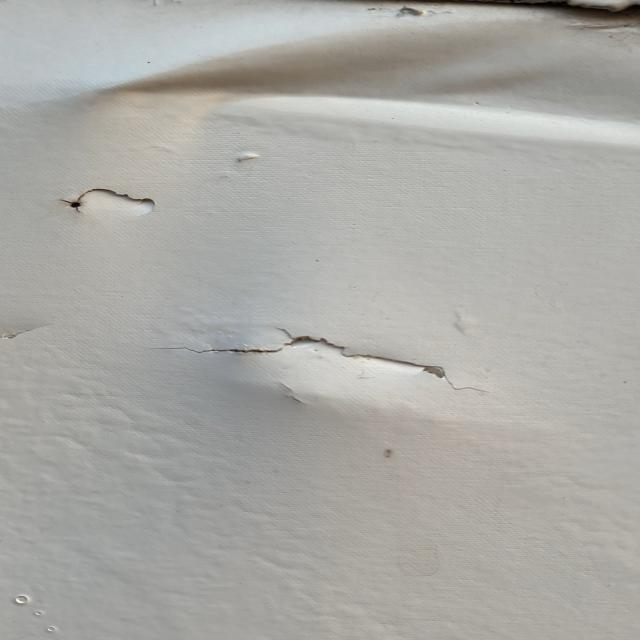Dents or Deformation: (129, 24, 640, 144)
Scratches: (149, 313, 587, 370), (39, 175, 194, 225)
